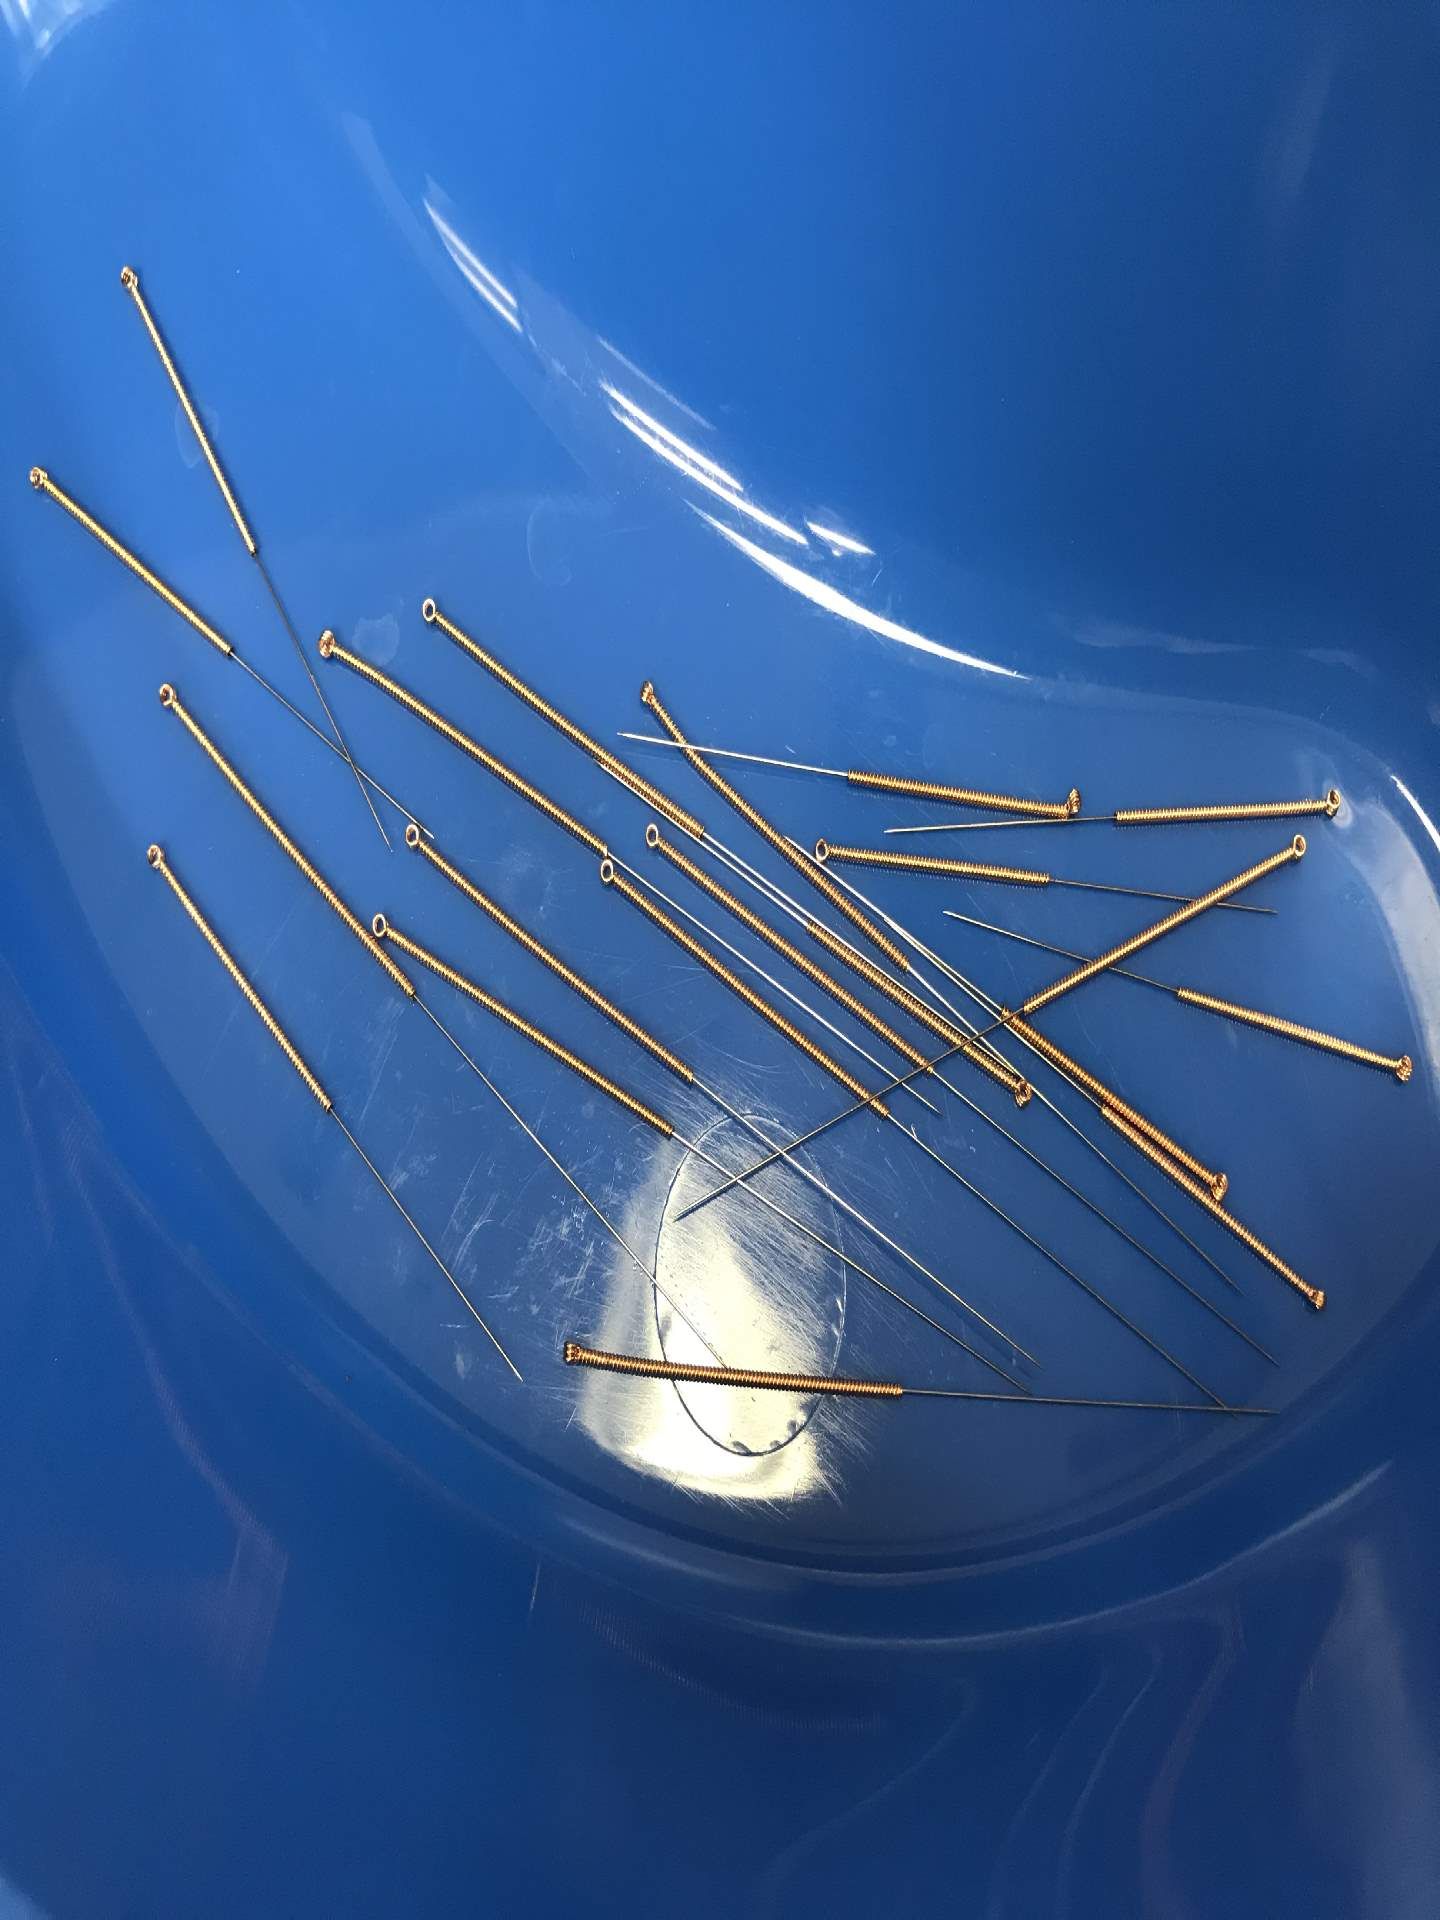needle: (307, 624, 352, 671), (552, 1330, 594, 1377), (1379, 1045, 1422, 1092), (411, 588, 451, 633), (635, 815, 675, 860), (1311, 779, 1351, 824), (1293, 1276, 1334, 1318), (393, 816, 433, 860), (631, 673, 667, 720), (150, 671, 185, 720), (18, 458, 57, 500), (1275, 827, 1314, 869), (138, 835, 172, 881), (1203, 1160, 1237, 1206), (1001, 1070, 1038, 1114), (1053, 783, 1088, 827), (591, 853, 626, 895), (110, 257, 142, 302), (366, 903, 401, 943), (809, 831, 843, 868)
